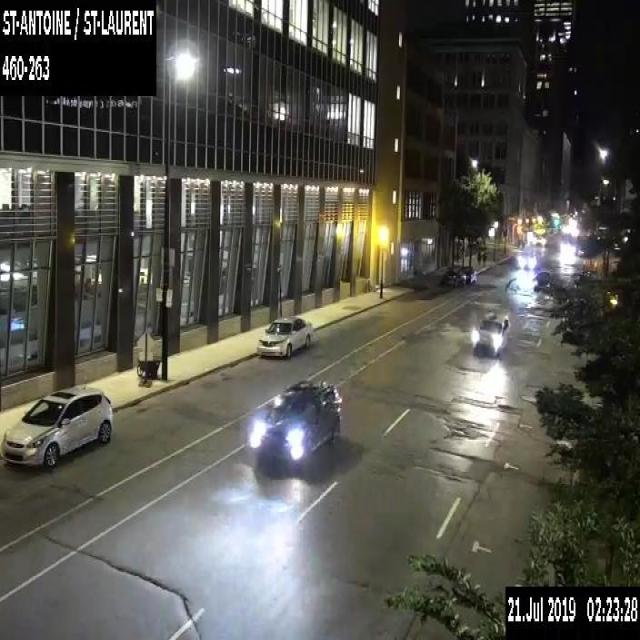construction: (134, 329, 156, 386), (581, 258, 602, 274)
pedestrian: (476, 248, 481, 266), (482, 250, 486, 266)
vehicle: (0, 384, 115, 472), (248, 378, 343, 471), (254, 315, 314, 360), (470, 310, 510, 356), (441, 266, 466, 286), (532, 270, 552, 292), (458, 265, 476, 283), (532, 233, 546, 244)
